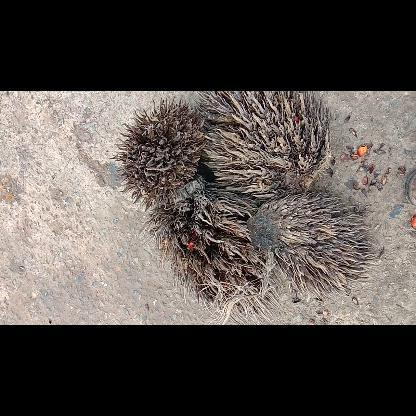Janjang kosong: (141, 176, 280, 324), (195, 90, 330, 200), (248, 193, 380, 297), (112, 97, 204, 209)
